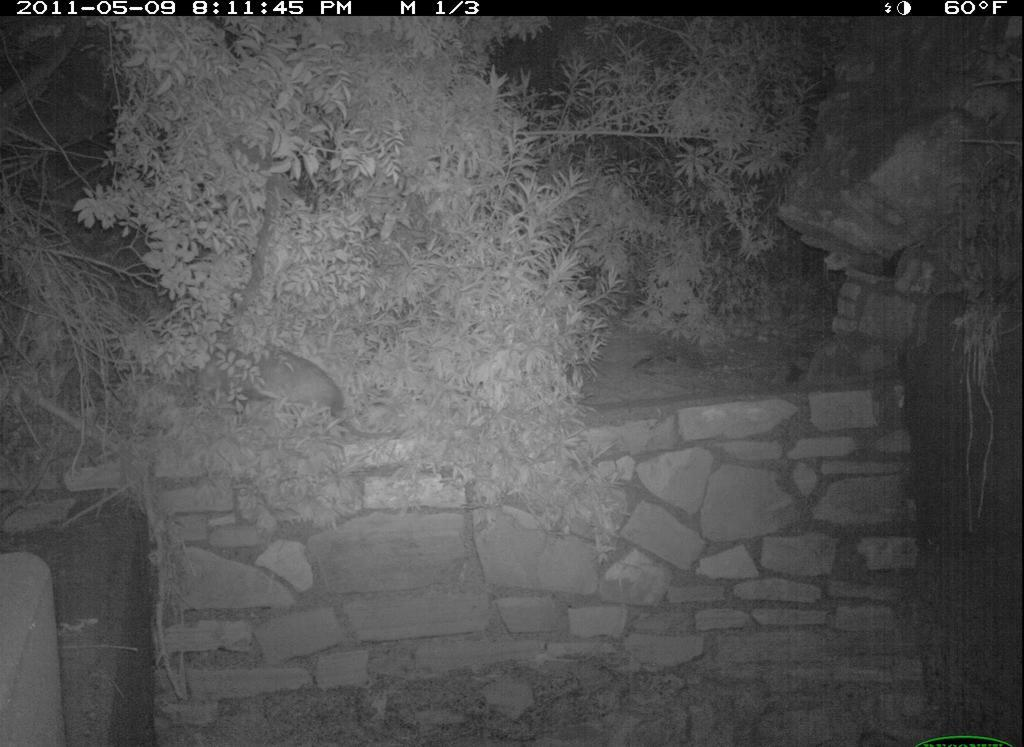opossum: (219, 336, 404, 445)
